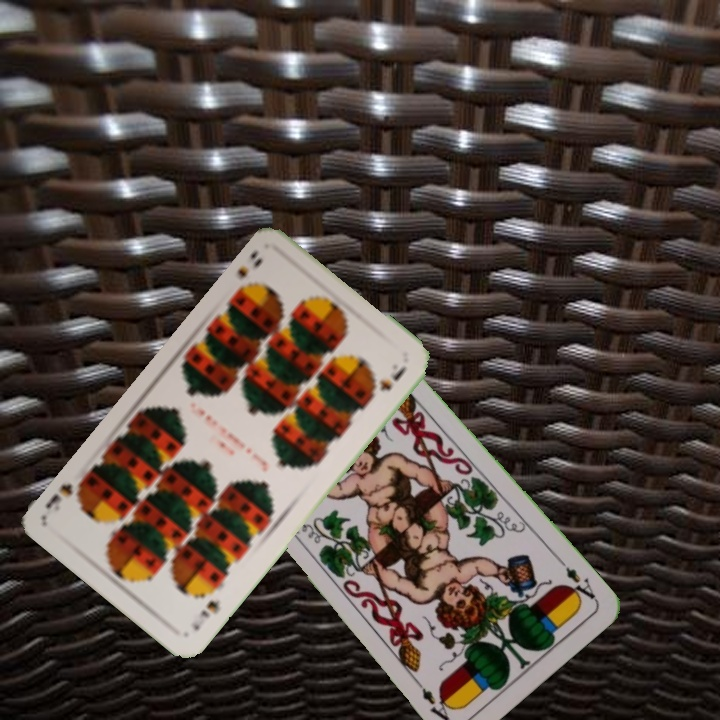EA: (561, 563, 598, 605)
S9: (187, 595, 223, 634), (233, 245, 266, 283)
